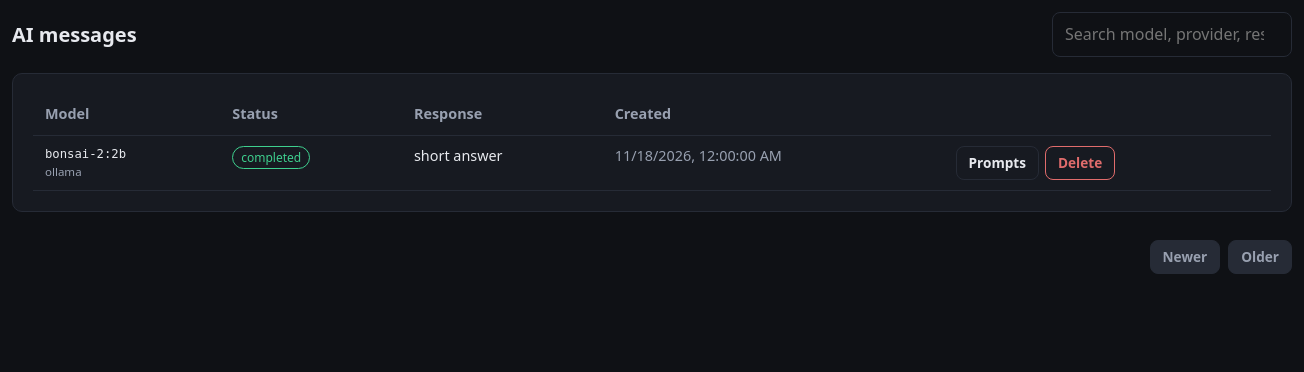
AiMessagesAdmin › shows No prompts when the endpoint returns an empty array
Expected: the text "short answer" is shown, [402,136,603,191]
Click the button "Prompts". click: [997, 163]
box: [956,146,1039,180]
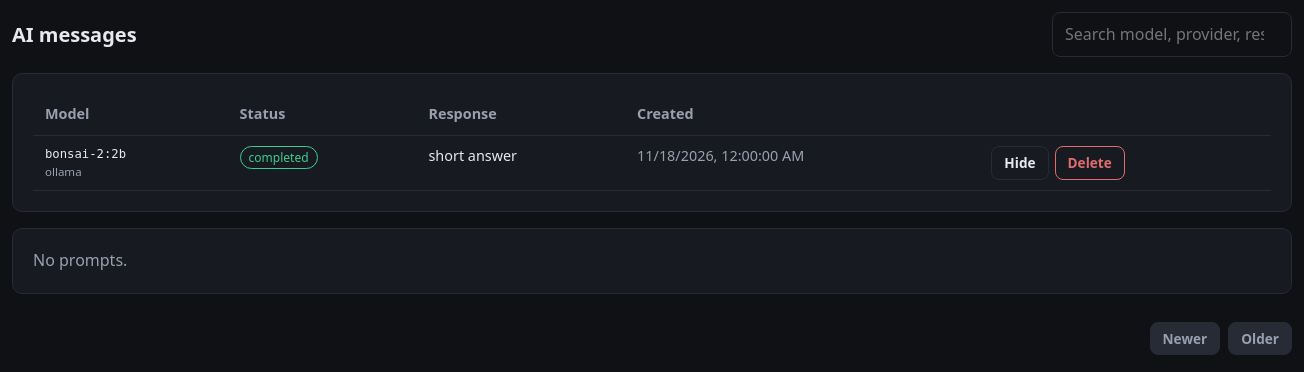
Now the text "No prompts." is shown, box [33,250,127,272]
